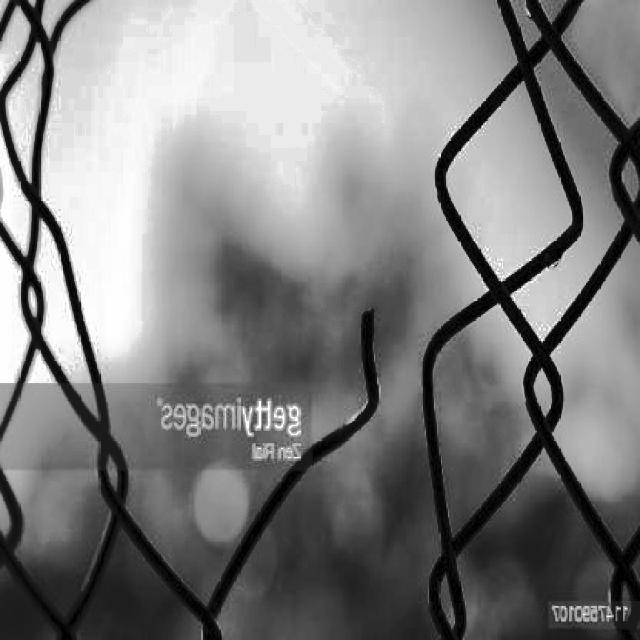anomaly-fence: (28, 1, 558, 502)
